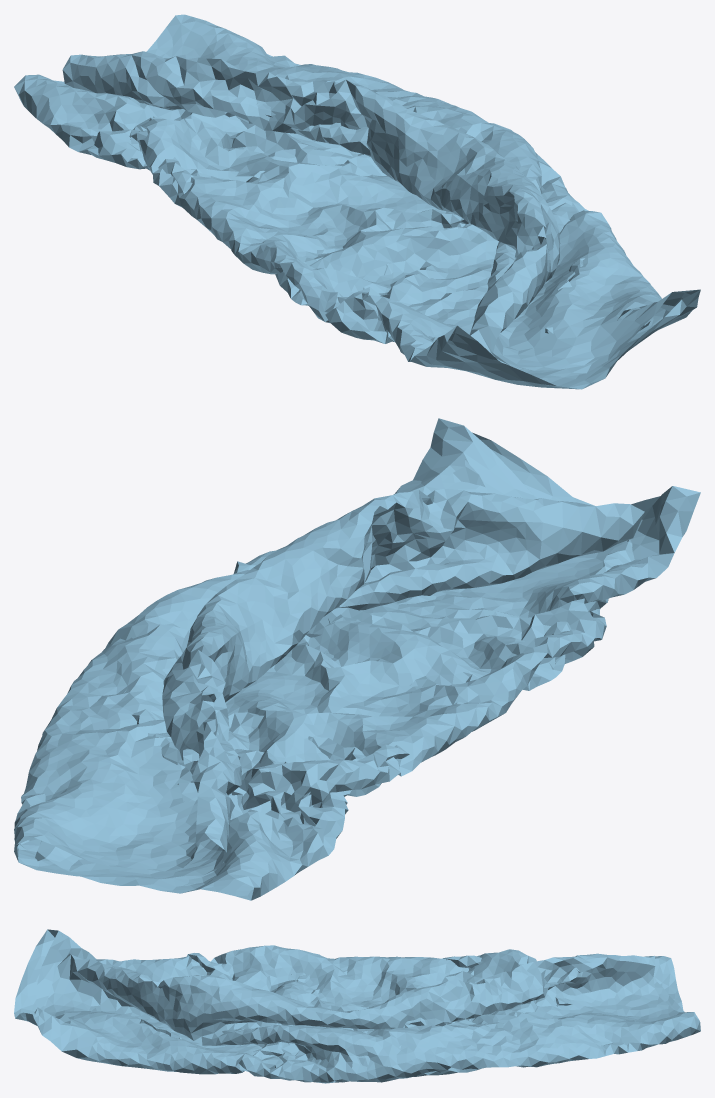
File: frame_01.glb
3 renders of one model, top to bottom at view 1: azimuth 30°, elevation 25°; view 2: azimuth 150°, elevation 25°; view 3: azimuth 270°, elevation 25°, orthographic. The views are drawn at different scales.
Parts seen in each view (by area): view 1: frame_01.obj; view 2: frame_01.obj; view 3: frame_01.obj.
Part boxes in pixels (<box>): frame_01.obj: <box>14,14,700,389</box>; frame_01.obj: <box>14,418,700,900</box>; frame_01.obj: <box>14,929,700,1083</box>.
Size of the model in its own units: 0.7876 by 0.2184 by 1.93.
